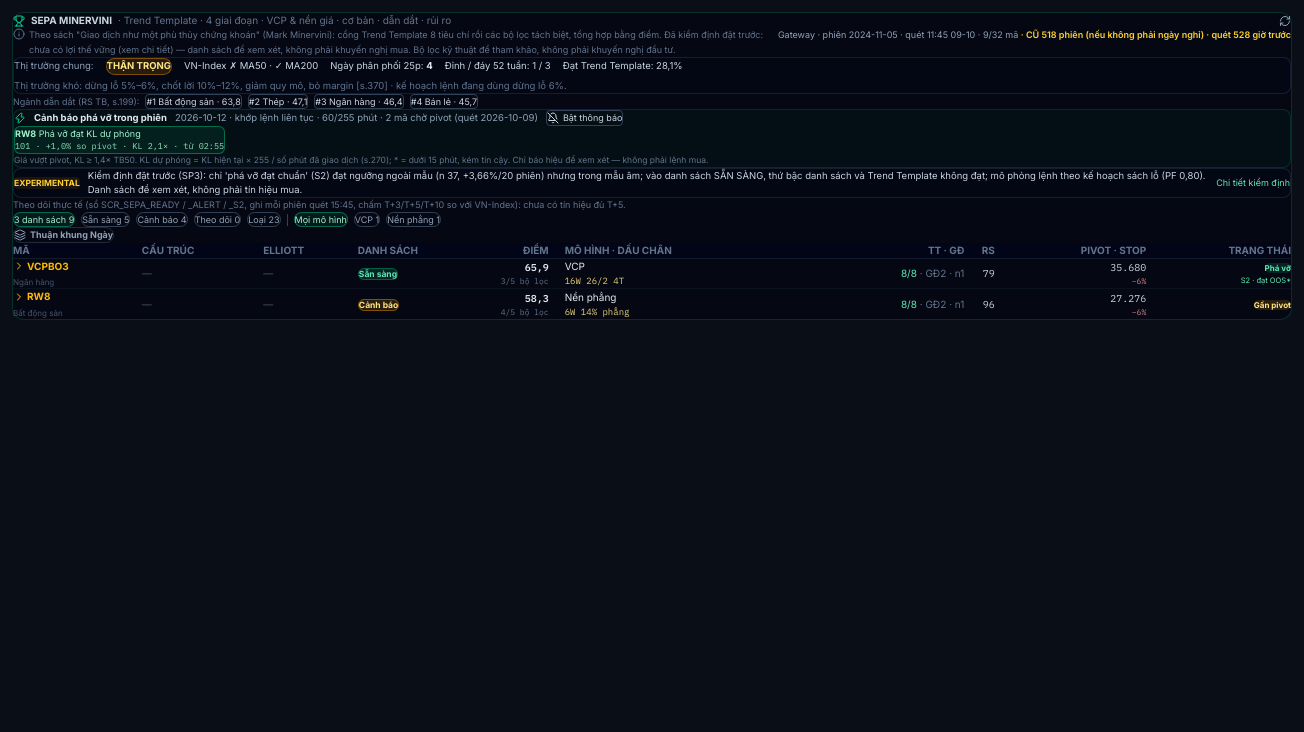
Test case: SEPA — bảng phụ phân tích chuyên sâu › dòng LOẠI: bảng phụ rút gọn — Trend Template và lý do, không tải nến
Click the button "Loại 23": (264, 220) [247,212,281,227]
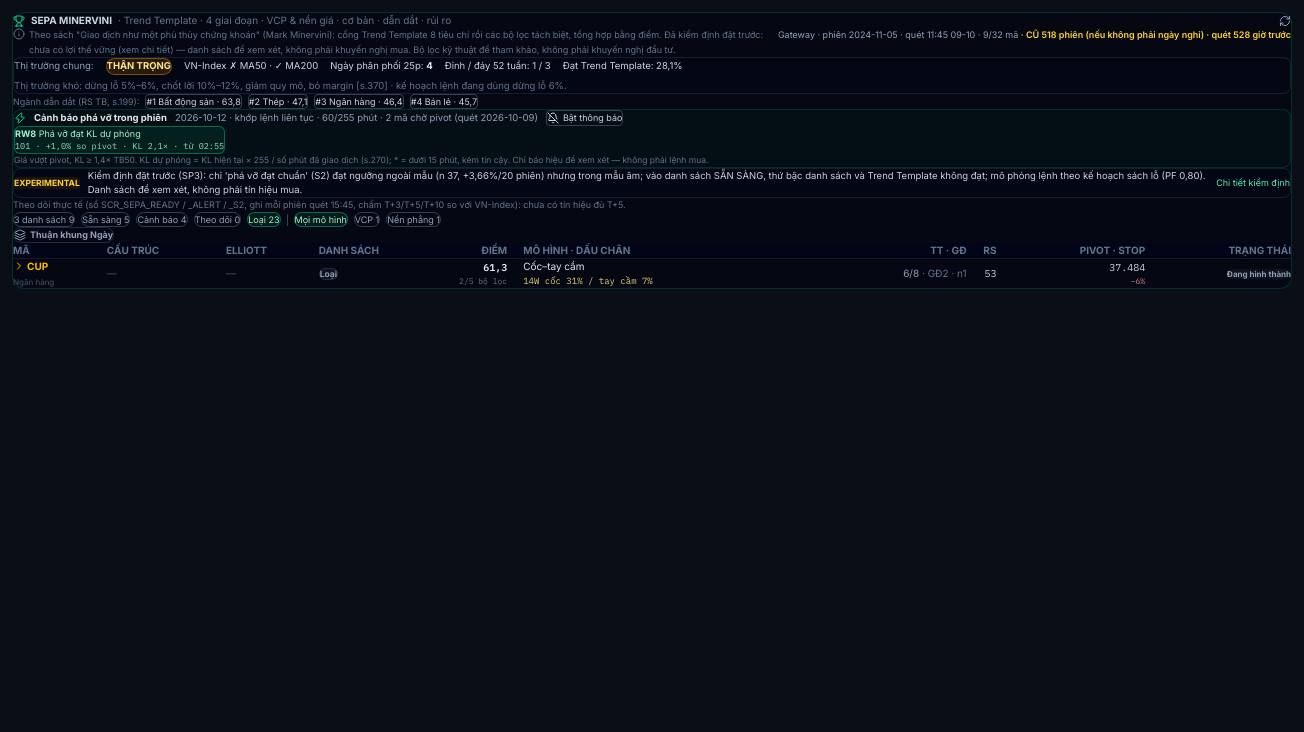
Click the button "CUP": (31, 266) [13,259,48,274]
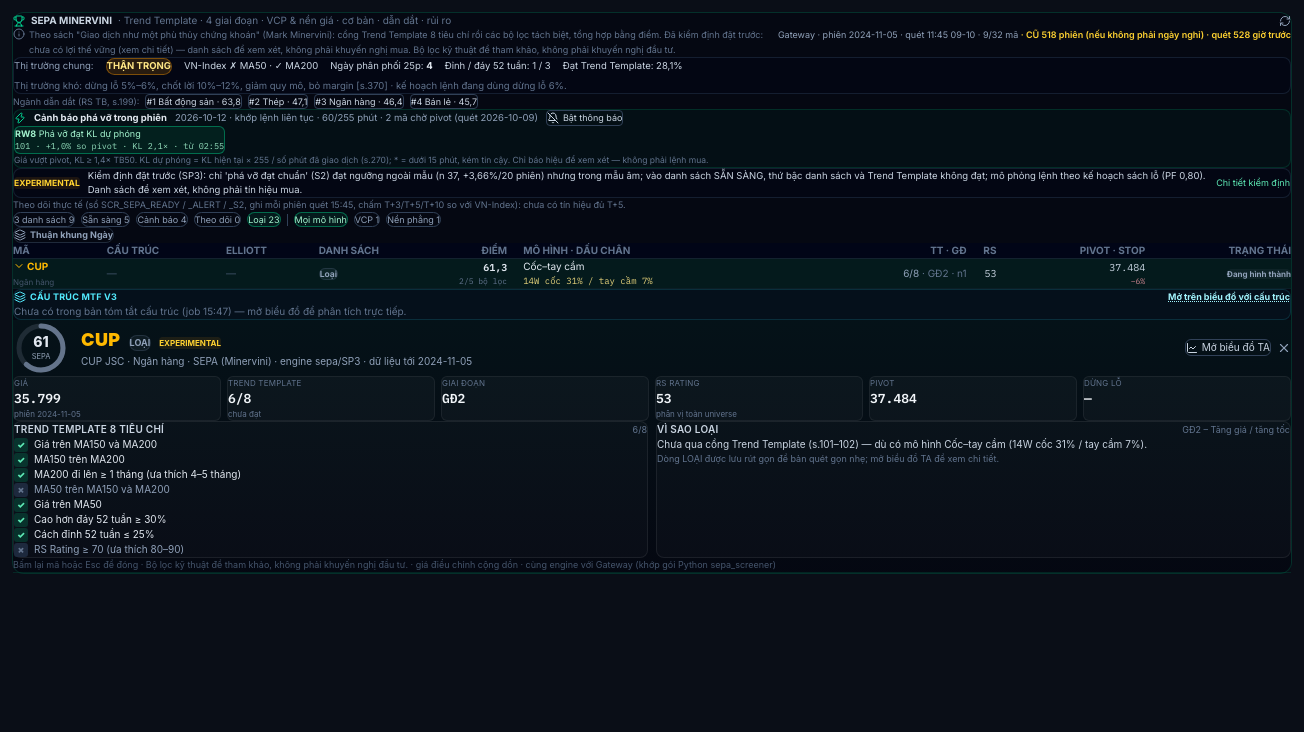
Expected: the number of list items is 8
